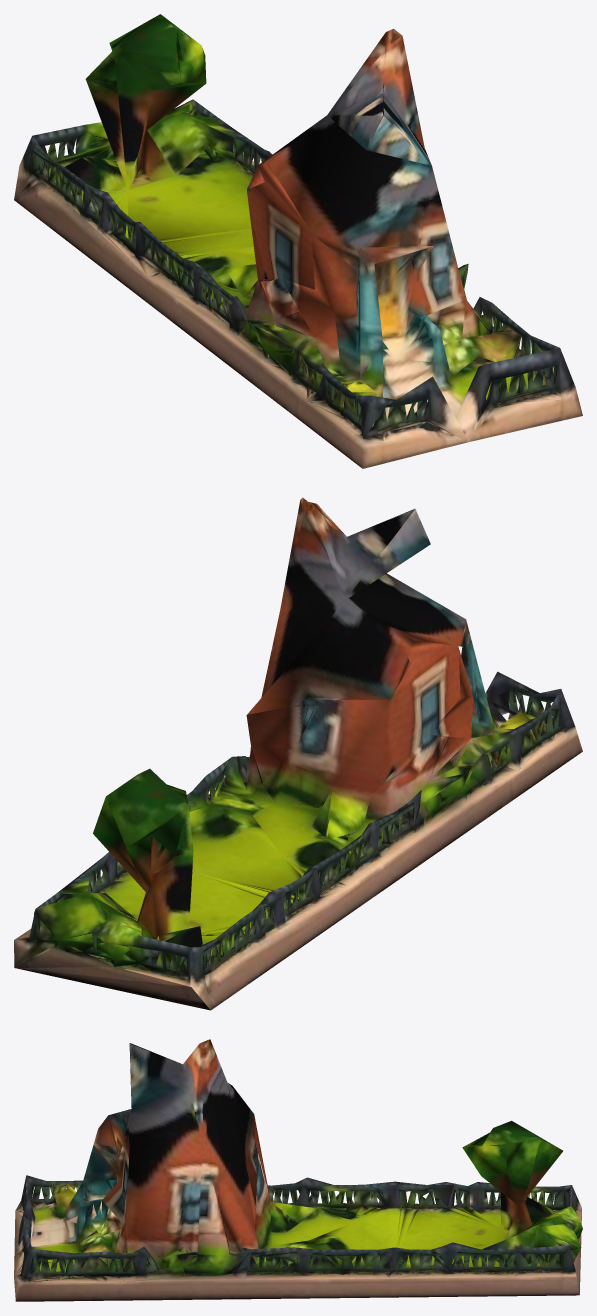
Rendered from house-tiny.far.glb.
3 renders of one model, top to bottom at view 1: azimuth 30°, elevation 25°; view 2: azimuth 150°, elevation 25°; view 3: azimuth 270°, elevation 25°, orthographic. The views are drawn at different scales.
Visible parts, largest first — view 1: low; view 2: low; view 3: low.
Part boxes in pixels (bbox=[...]): low: bbox=[14, 14, 582, 468]; low: bbox=[14, 497, 582, 1010]; low: bbox=[14, 1039, 582, 1301].
Bounding box in the file's own units: 0.3375 × 0.4508 × 0.9759.
1 material, 1 textured.
